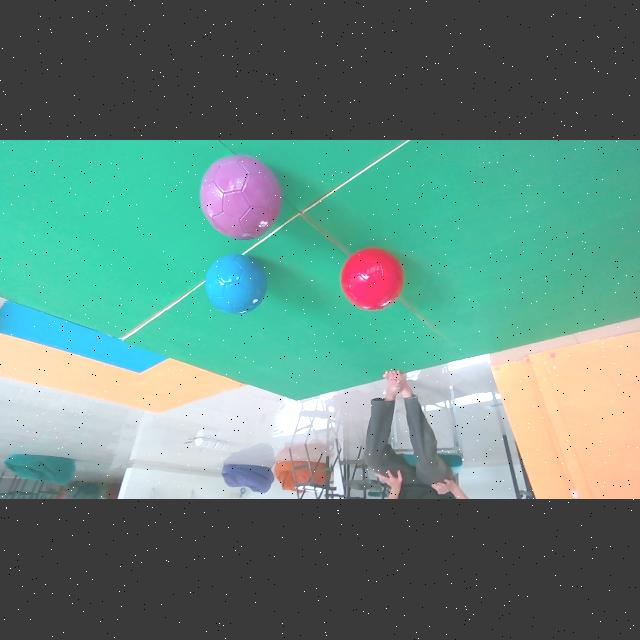B: (205, 255, 267, 315)
P: (200, 155, 281, 240)
R: (341, 249, 405, 311)
